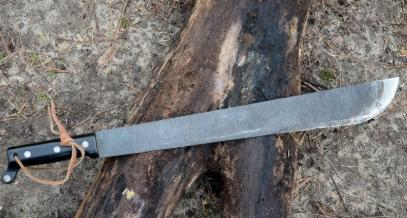MACHETTE: (2, 74, 402, 187)
